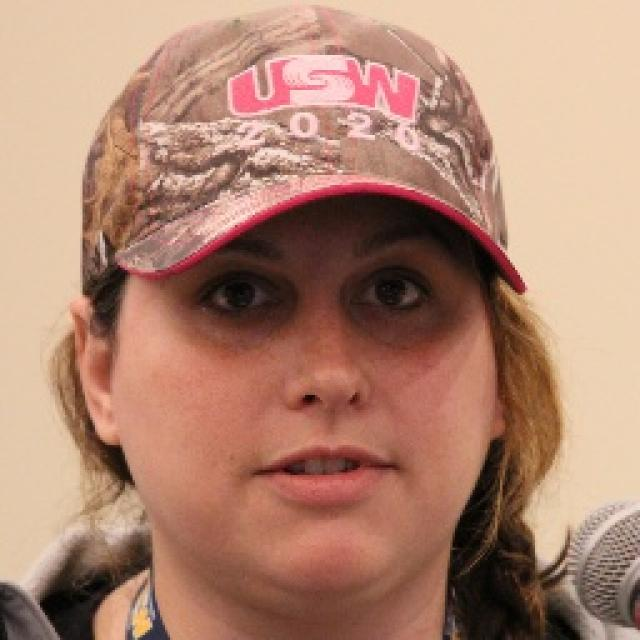earlobe: (70, 296, 122, 447)
